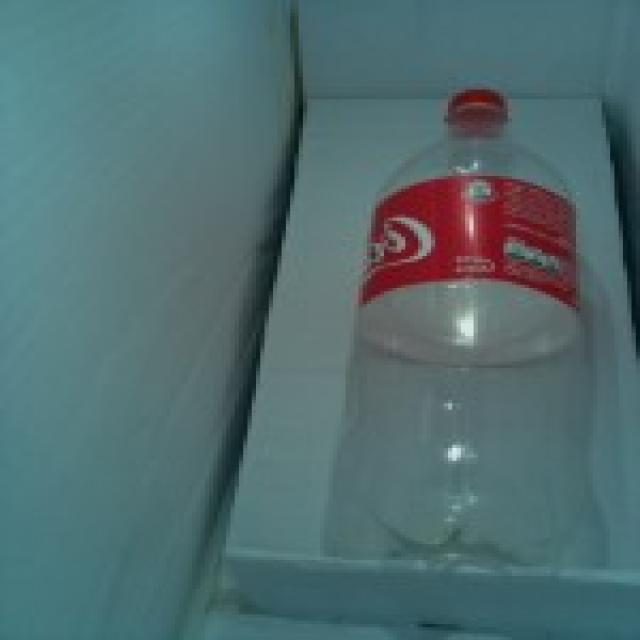bottle: (312, 74, 604, 595)
